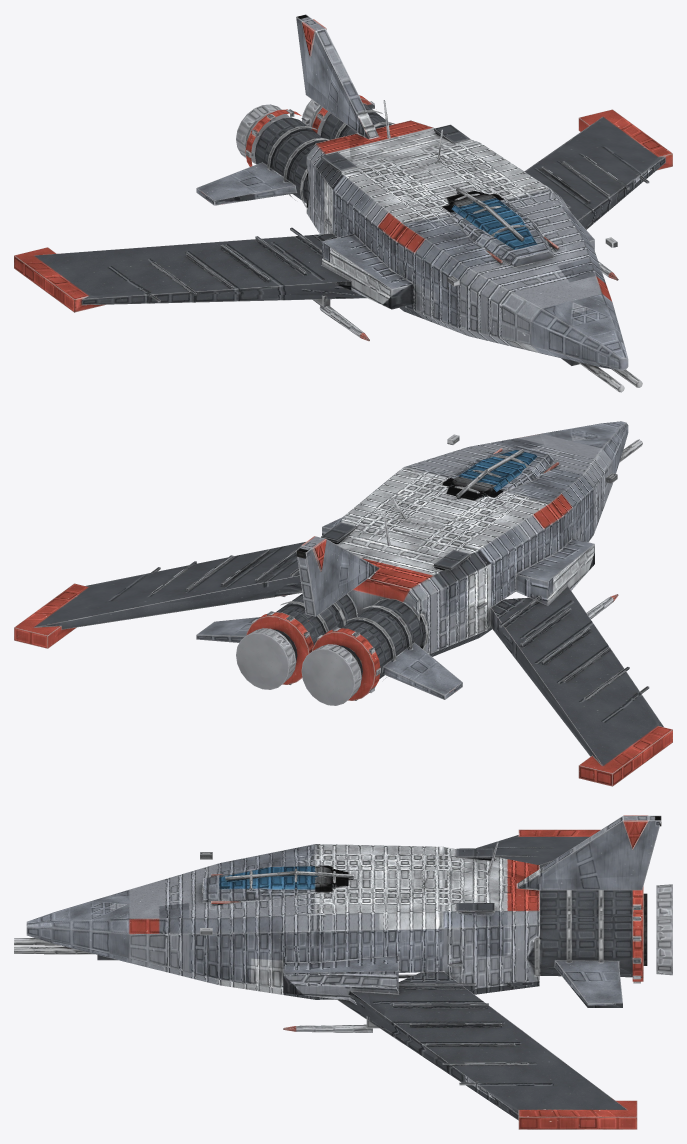
File: sd_ship_sahin.glb
3 renders of one model, top to bottom at view 1: azimuth 30°, elevation 25°; view 2: azimuth 150°, elevation 25°; view 3: azimuth 270°, elevation 25°, orthographic.
Visible parts, largest first — view 1: LOD0_body, LOD1_body; view 2: LOD0_body, LOD1_body; view 3: LOD0_body, LOD1_body.
Part boxes in pixels (x1,y1,x2,y2): LOD0_body: (14,14,672,392); LOD1_body: (30,16,668,373); LOD0_body: (14,421,672,786); LOD1_body: (30,423,663,767); LOD0_body: (14,815,672,1129); LOD1_body: (76,816,661,1114).
Bounding box in the file's own units: 1.03 × 0.2811 × 1.
1 material, 1 textured.
